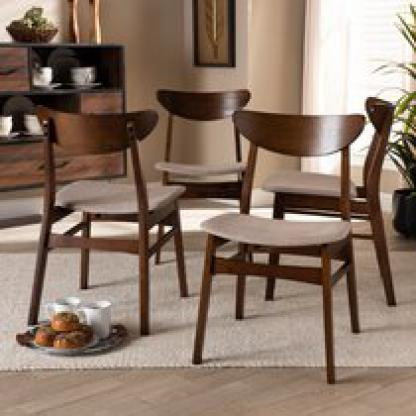chair: (190, 109, 373, 379), (25, 94, 188, 347), (267, 99, 410, 287), (152, 83, 250, 262)
